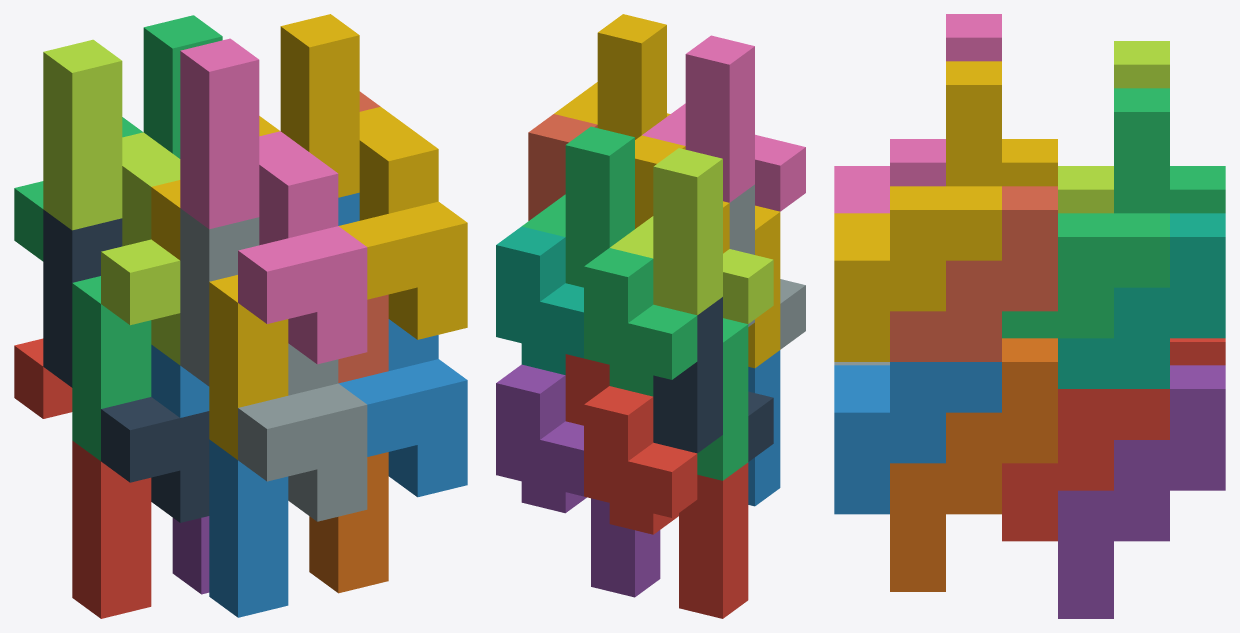
File: tiling.obj
3 views of the same model, side by side, from view 1: azimuth 30°, elevation 25°; view 2: azimuth 150°, elevation 25°; view 3: azimuth 270°, elevation 25° (orthographic). The views are drawn at different scales.
Parts seen in each view (by area): view 1: copy_2_domain_4, copy_2_domain_8, copy_2_domain_3, copy_2_domain_2, copy_2_domain_1, copy_1_domain_1, copy_1_domain_2, copy_2_domain_6, copy_1_domain_3, copy_1_domain_4, copy_1_domain_6, copy_2_domain_7 (+2 smaller); view 2: copy_1_domain_1, copy_1_domain_3, copy_1_domain_5, copy_2_domain_3, copy_2_domain_4, copy_1_domain_7, copy_2_domain_7, copy_2_domain_8, copy_2_domain_1, copy_1_domain_4, copy_1_domain_8, copy_1_domain_2 (+2 smaller); view 3: copy_2_domain_8, copy_1_domain_6, copy_1_domain_5, copy_2_domain_7, copy_2_domain_6, copy_1_domain_7, copy_1_domain_8, copy_2_domain_5, copy_2_domain_4, copy_2_domain_3, copy_1_domain_3, copy_1_domain_4 (+1 smaller).
Boxes of the visible parts, x1=… form: copy_2_domain_4: x1=180, y1=38, x2=367, y2=364; copy_2_domain_8: x1=280, y1=14, x2=467, y2=339; copy_2_domain_3: x1=43, y1=39, x2=180, y2=365; copy_2_domain_2: x1=180, y1=208, x2=367, y2=521; copy_2_domain_1: x1=43, y1=209, x2=209, y2=522; copy_1_domain_1: x1=14, y1=338, x2=151, y2=618; copy_1_domain_2: x1=151, y1=344, x2=288, y2=617; copy_2_domain_6: x1=338, y1=192, x2=467, y2=497; copy_1_domain_3: x1=14, y1=117, x2=151, y2=460; copy_1_domain_4: x1=151, y1=116, x2=288, y2=459; copy_1_domain_6: x1=309, y1=452, x2=388, y2=593; copy_2_domain_7: x1=143, y1=15, x2=222, y2=158; copy_1_domain_1: x1=584, y1=386, x2=748, y2=618; copy_1_domain_3: x1=584, y1=248, x2=748, y2=480; copy_1_domain_5: x1=496, y1=364, x2=660, y2=597; copy_2_domain_3: x1=610, y1=148, x2=773, y2=323; copy_2_domain_4: x1=642, y1=35, x2=805, y2=211; copy_1_domain_7: x1=496, y1=226, x2=583, y2=374; copy_2_domain_7: x1=522, y1=126, x2=634, y2=287; copy_2_domain_8: x1=554, y1=14, x2=670, y2=139; copy_2_domain_1: x1=653, y1=297, x2=773, y2=461; copy_1_domain_4: x1=635, y1=135, x2=780, y2=368; copy_1_domain_8: x1=528, y1=114, x2=597, y2=220; copy_1_domain_2: x1=748, y1=350, x2=780, y2=506; copy_2_domain_8: x1=834, y1=61, x2=1001, y2=361; copy_1_domain_6: x1=890, y1=338, x2=1057, y2=591; copy_1_domain_5: x1=1058, y1=365, x2=1225, y2=618; copy_2_domain_7: x1=1002, y1=88, x2=1169, y2=338; copy_2_domain_6: x1=834, y1=362, x2=1001, y2=514; copy_1_domain_7: x1=1058, y1=213, x2=1225, y2=388; copy_1_domain_8: x1=890, y1=186, x2=1057, y2=361; copy_2_domain_5: x1=1002, y1=389, x2=1169, y2=541; copy_2_domain_4: x1=834, y1=14, x2=1001, y2=213; copy_2_domain_3: x1=1058, y1=41, x2=1169, y2=213; copy_1_domain_3: x1=1170, y1=166, x2=1225, y2=213; copy_1_domain_4: x1=1002, y1=139, x2=1057, y2=186.
Bounding box in the file's own units: 5 × 11 × 7.
